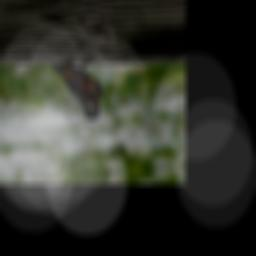Swallow: (50, 51, 105, 124)
